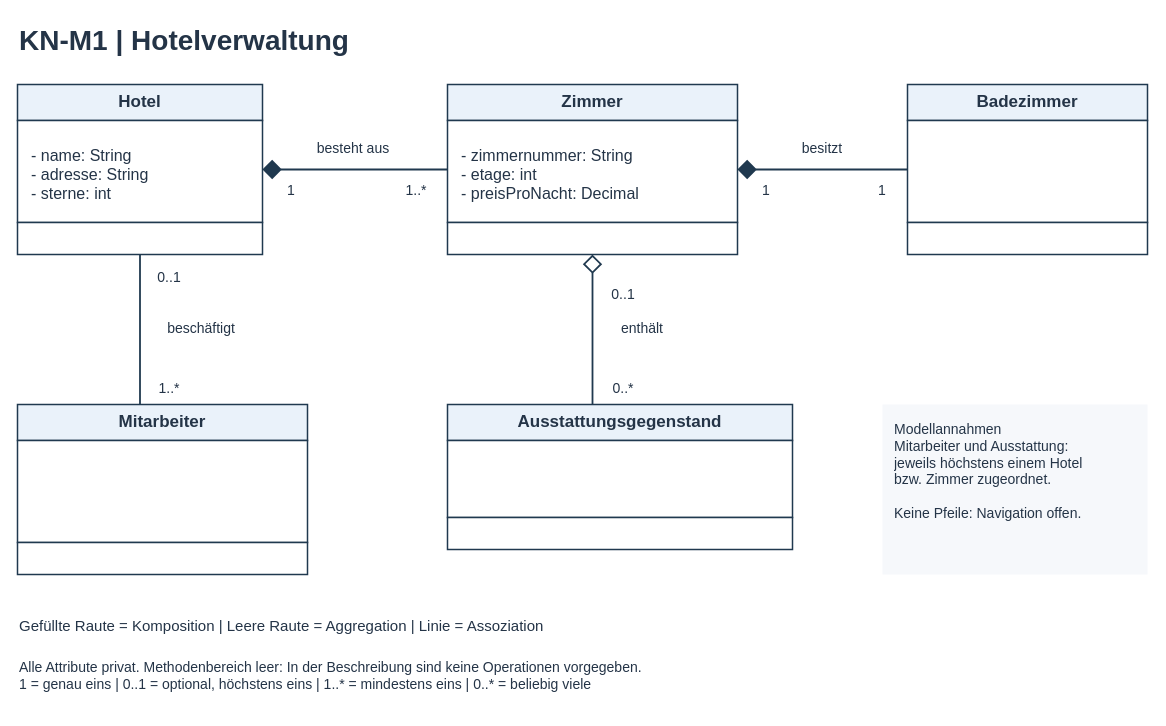
The diagram is 1166 pixels wide and 726 high, and some of its shapes have lost their labels. The centre of each missing label's shape, as x and y in pixels:
"- bezeichnung: String - seriennummer: String" goes at [619,478].
"- hatDusche: boolean - hatBadewanne: boolean - hatWC: boolean" goes at [1027,171].
"- personalnummer: String - name: String - funktion: String" goes at [162,491].
